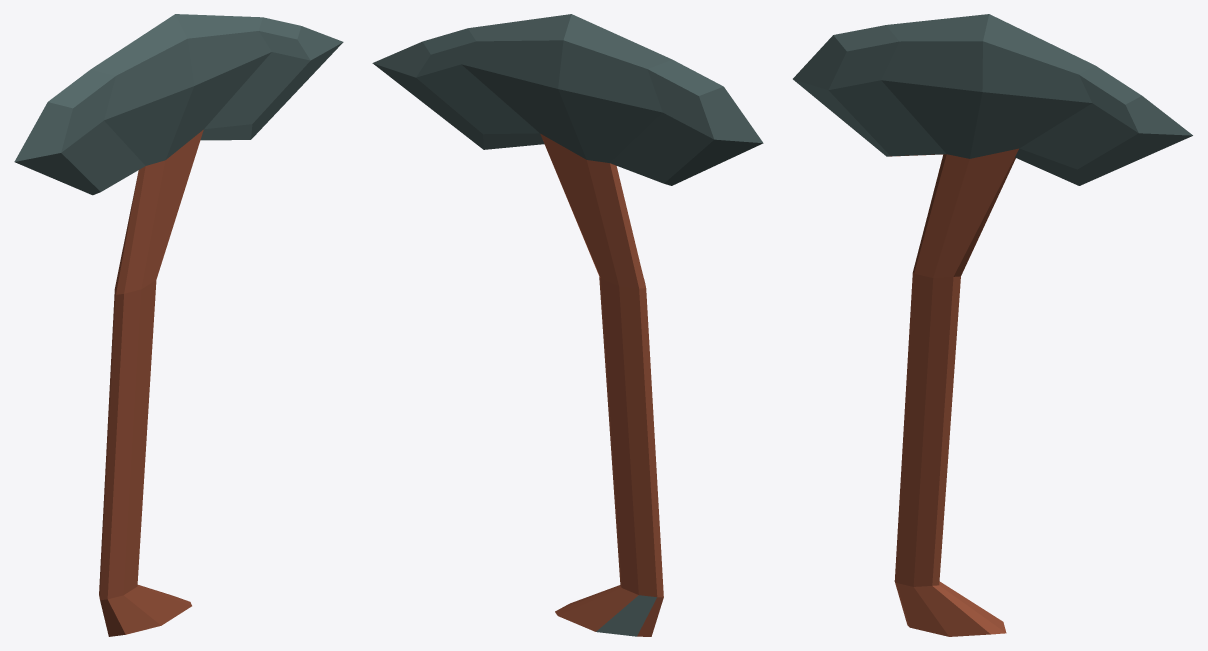
The model's file is PickUpdated.fbx.
The picture shows the model from 3 angles, left to right: view 1: azimuth 30°, elevation 25°; view 2: azimuth 150°, elevation 25°; view 3: azimuth 330°, elevation 25°; orthographic projection. The views are drawn at different scales.
Visible parts, largest first — view 1: Cube; view 2: Cube; view 3: Cube.
Part boxes in pixels (x1,y1,x2,y2): Cube: [14, 14, 343, 636]; Cube: [372, 14, 763, 636]; Cube: [793, 14, 1192, 636].
Bounding box in the file's own units: 153 × 246 × 27.51.
